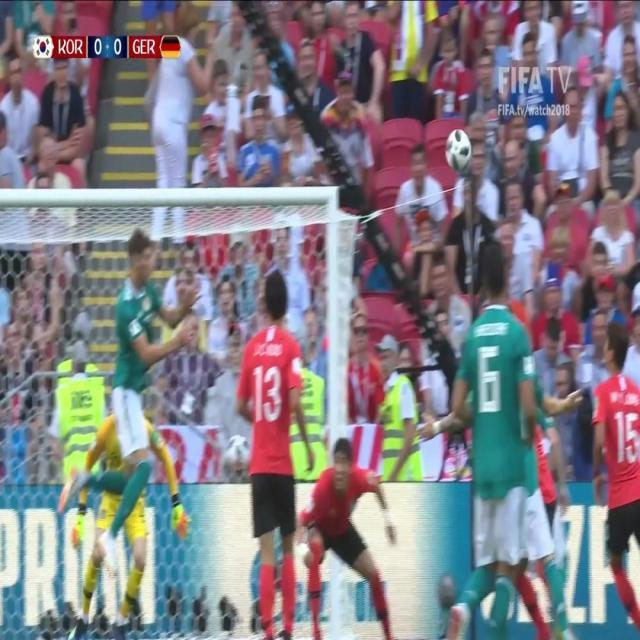ball: (443, 123, 475, 172)
goalkeeper: (70, 402, 188, 636)
player: (439, 252, 575, 626), (74, 210, 199, 569), (227, 264, 322, 636), (73, 387, 193, 630), (297, 432, 401, 634), (587, 308, 639, 627)
